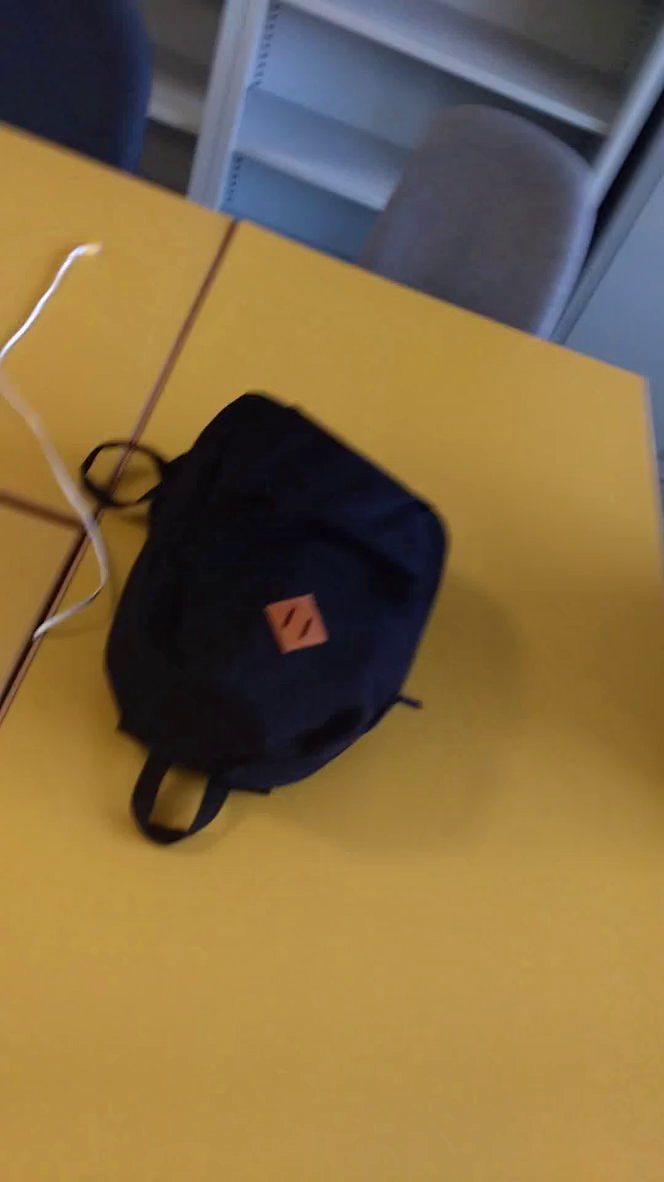bag: (71, 376, 474, 866)
chair: (321, 79, 619, 383)
